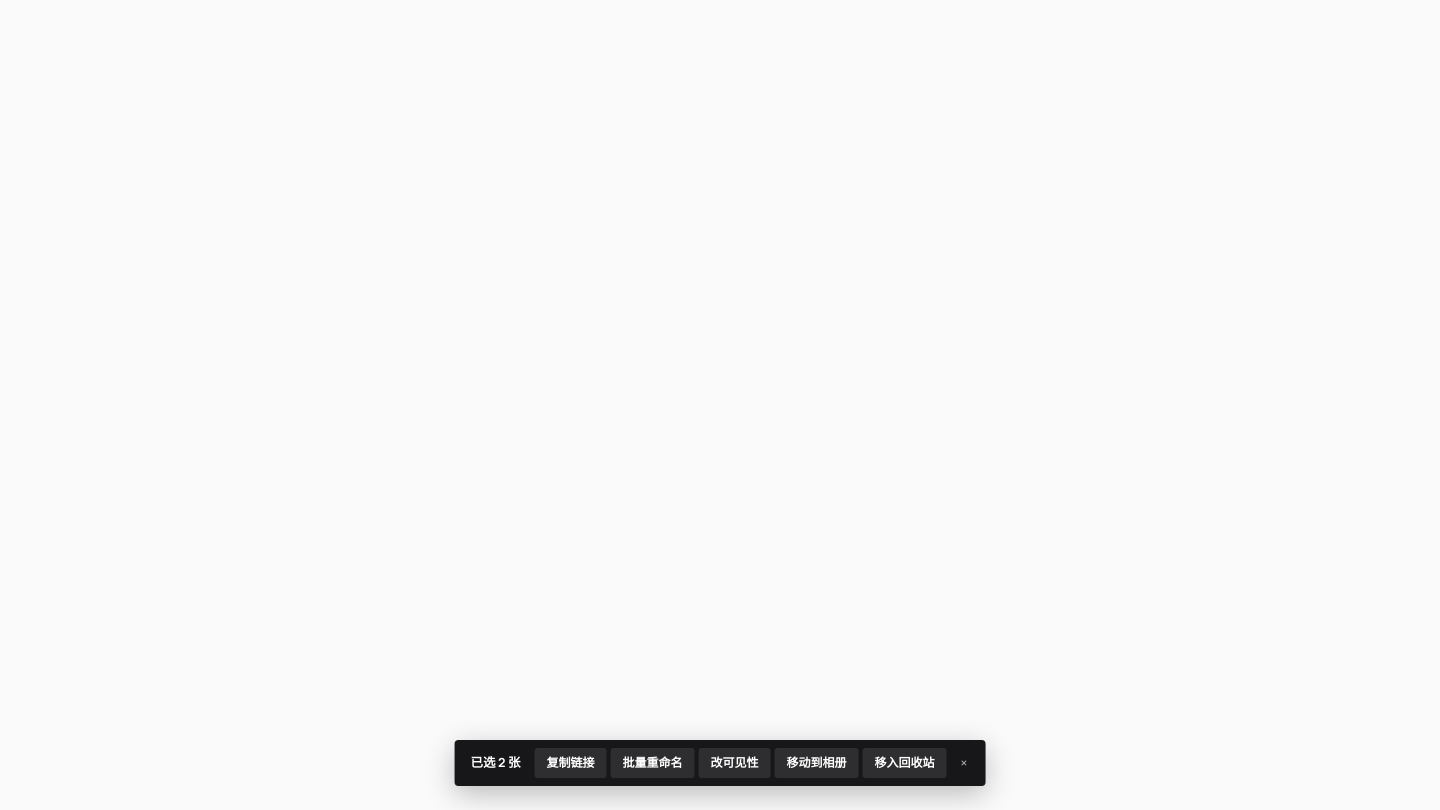
Scenario: 移动弹窗每次打开都复位为未分类
This screenshot has width=1440, height=810.
Step 1. Click the button "移动到相册" → (817, 763), box [775,748,859,778]
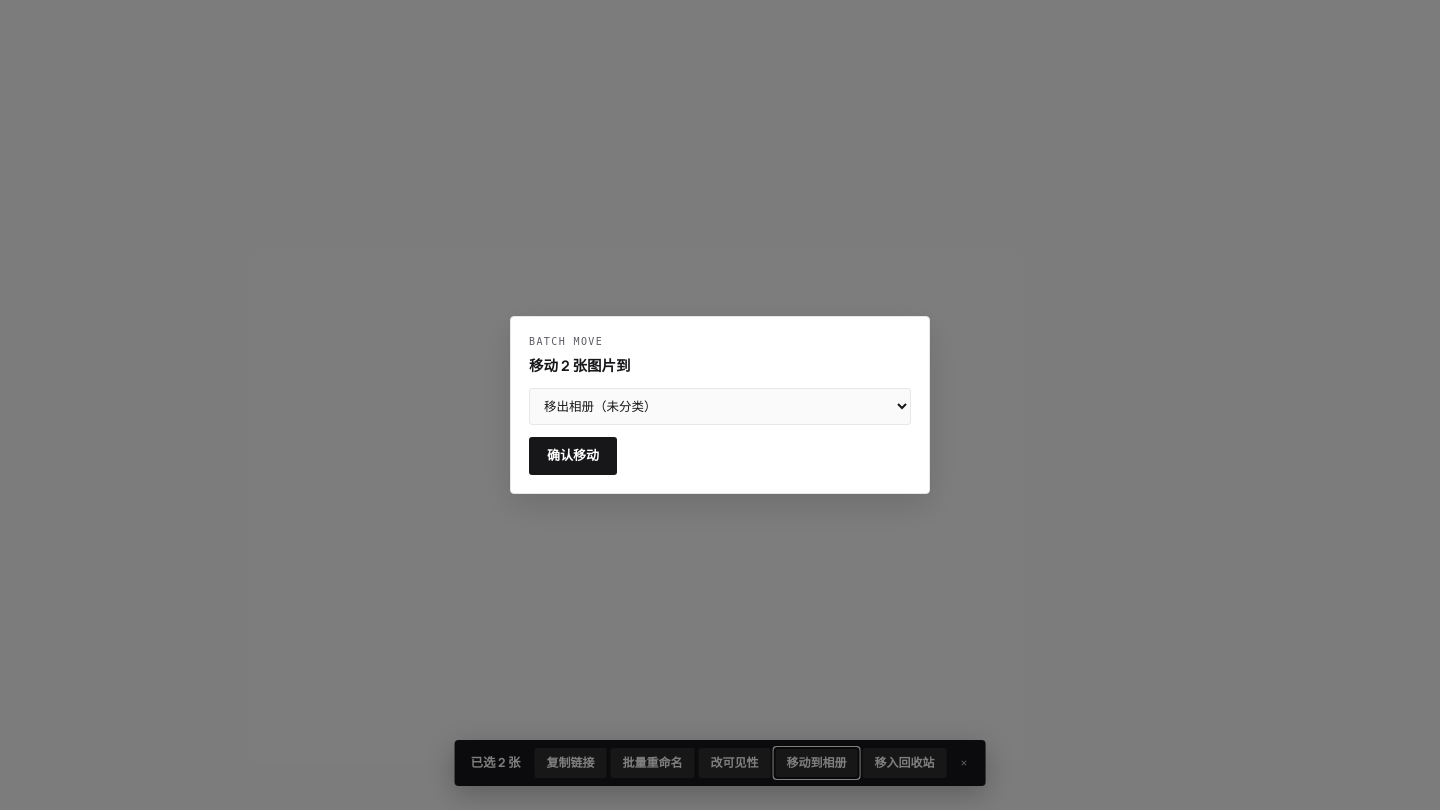
Step 2. Select "工作" in the dropdown named "目标相册" → (720, 407), box [529,388,911,425]
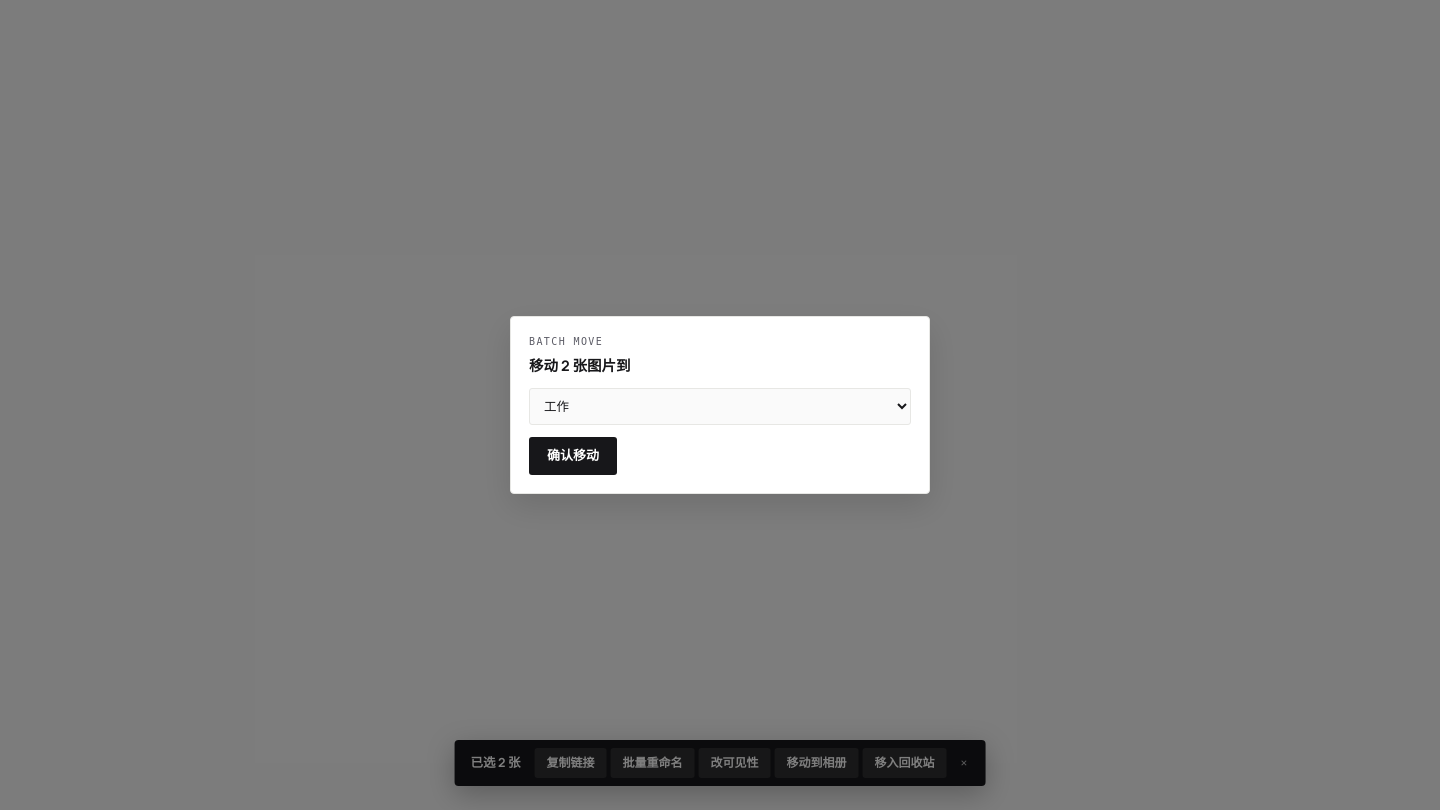
Step 3. Click the button "确认移动" → (573, 456), box [529,437,617,475]
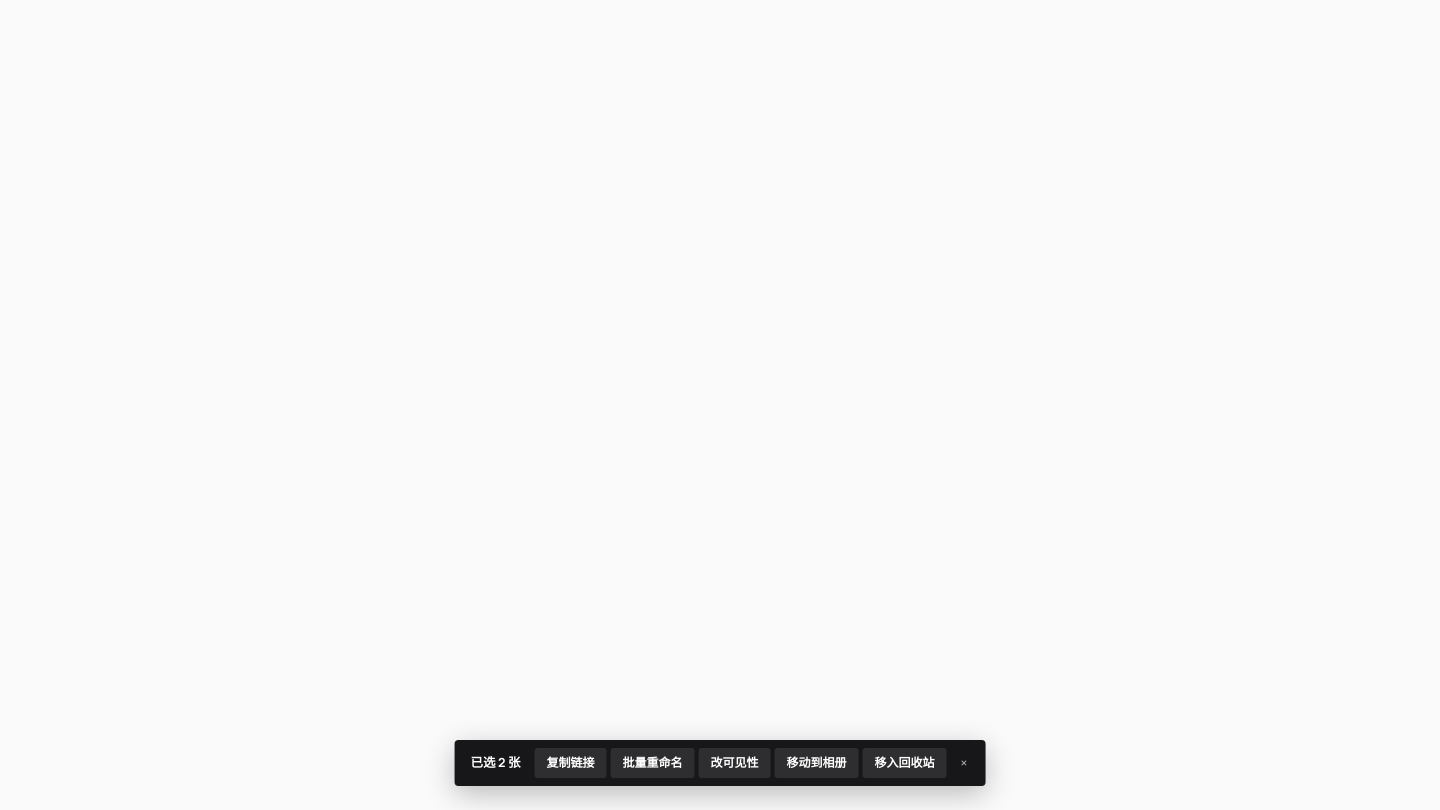
expect the dropdown labelled "目标相册" is gone: met
Step 4. Click the button "移动到相册" → (817, 763), box [775,748,859,778]
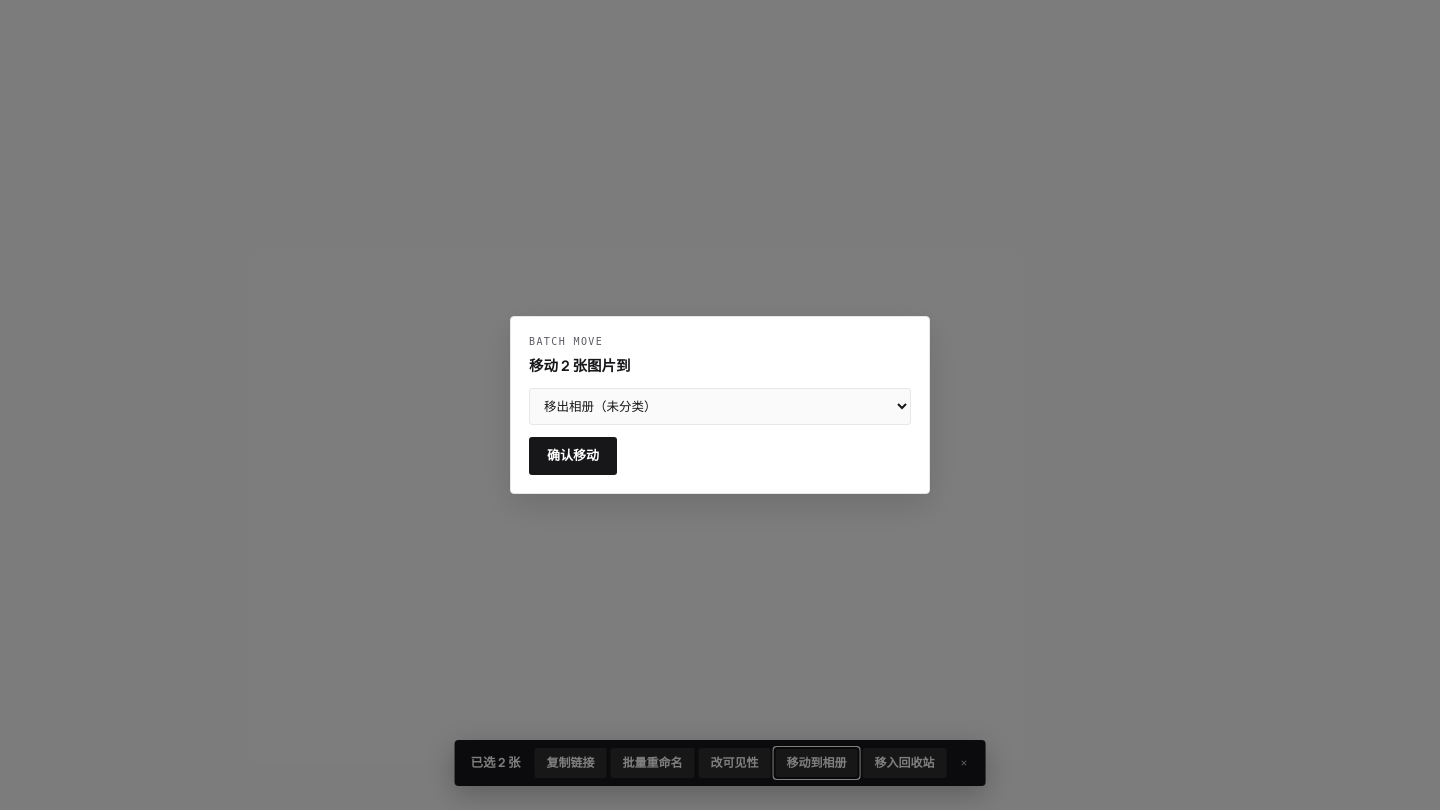
expect the dropdown named "目标相册" shows "移出相册（未分类）": met, box [529,388,911,425]
